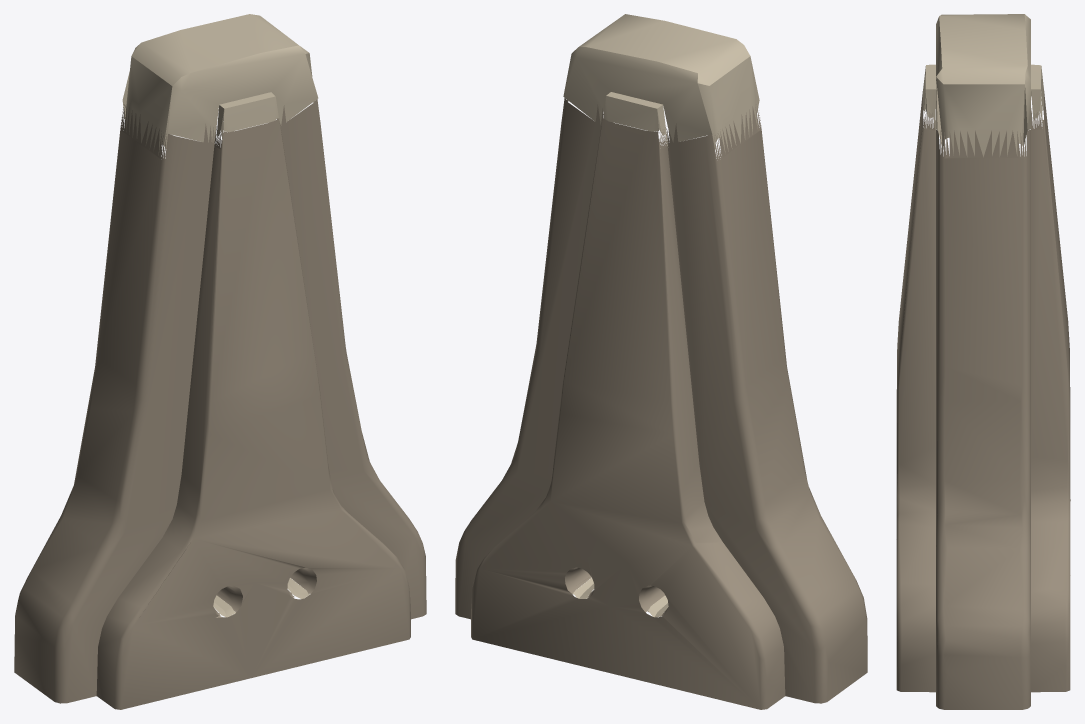
File: stone-wall.glb
3 views of the same model, side by side, from view 1: azimuth 30°, elevation 25°; view 2: azimuth 150°, elevation 25°; view 3: azimuth 270°, elevation 25° (orthographic). The views are drawn at different scales.
Parts seen in each view (by area): view 1: body; view 2: body; view 3: body.
Boxes of the visible parts, bbox=[...] form: body: bbox=[14, 14, 426, 709]; body: bbox=[455, 14, 867, 709]; body: bbox=[896, 14, 1070, 709].
Size of the model in its own units: 0.8528 by 1.32 by 0.3561.
